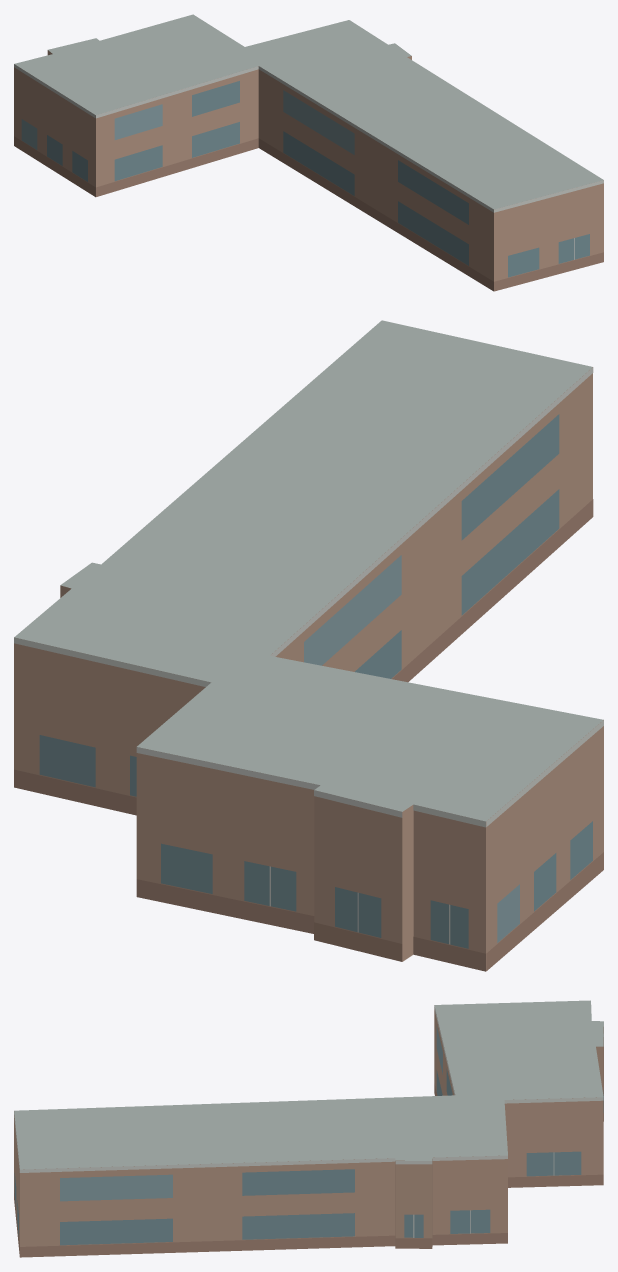
The model's file is survey-upis-32607828.glb.
3 views of the same model, one above another, from view 1: azimuth 30°, elevation 25°; view 2: azimuth 150°, elevation 25°; view 3: azimuth 270°, elevation 25° (orthographic). The views are drawn at different scales.
Parts seen in each view (by area): view 1: survey-upis-32607828.tmp; view 2: survey-upis-32607828.tmp; view 3: survey-upis-32607828.tmp.
Part boxes in pixels (x1,y1,x2,y2): survey-upis-32607828.tmp: (14,14,603,291); survey-upis-32607828.tmp: (14,320,603,971); survey-upis-32607828.tmp: (14,1000,603,1257).
Size of the model in its own units: 25.18 by 6.1 by 37.11.
